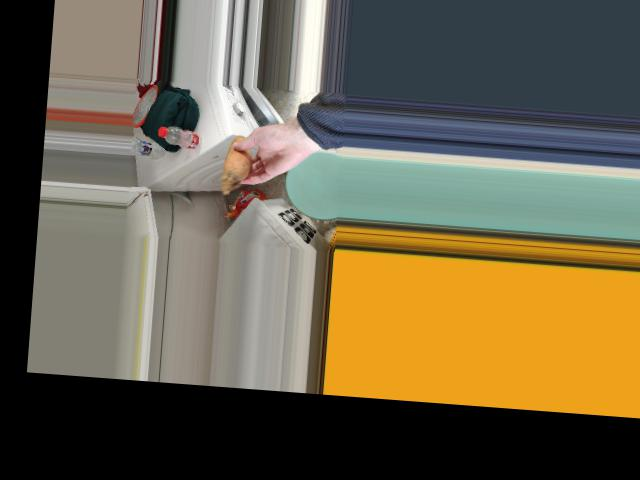sweet_potato: (221, 138, 250, 184)
